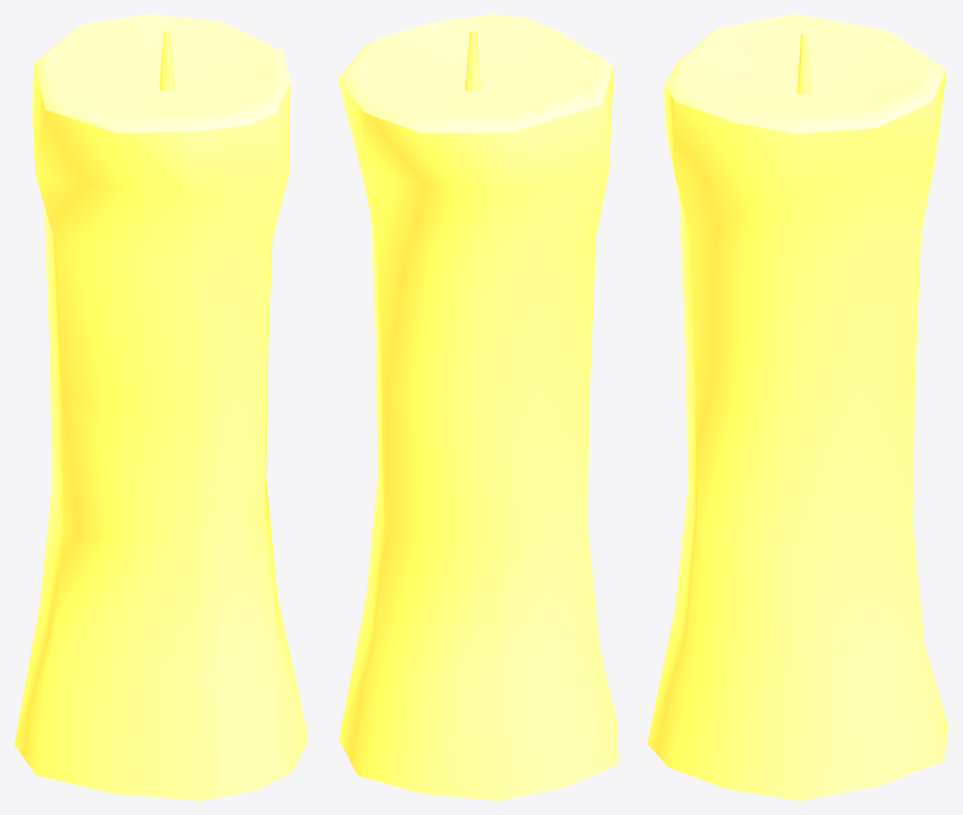
The model's file is Candle_red_2.fbx.
3 renders of one model, left to right at view 1: azimuth 30°, elevation 25°; view 2: azimuth 150°, elevation 25°; view 3: azimuth 270°, elevation 25°, orthographic.
Parts seen in each view (by area): view 1: Candle_red_2_LOD0; view 2: Candle_red_2_LOD0; view 3: Candle_red_2_LOD0.
Boxes of the visible parts, x1=… form: Candle_red_2_LOD0: x1=14, y1=14, x2=308, y2=800; Candle_red_2_LOD0: x1=337, y1=14, x2=618, y2=800; Candle_red_2_LOD0: x1=647, y1=14, x2=948, y2=800.
Size of what is drawn, in the model's own units: 0.0584 by 0.1483 by 0.0575.
